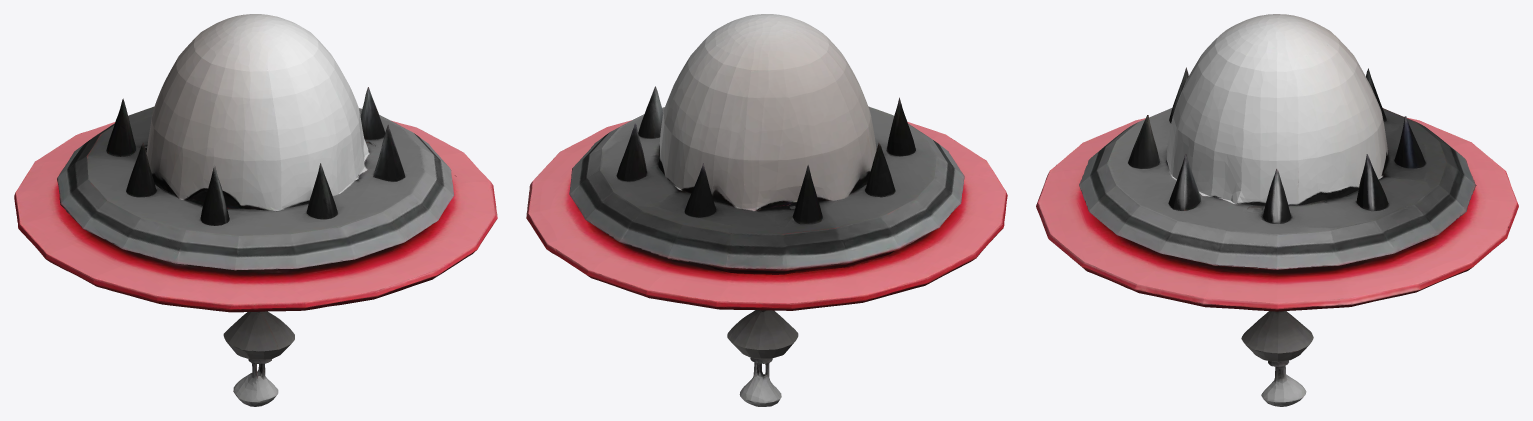
The model's file is 3deditformer_t02.glb.
The picture shows the model from 3 angles, left to right: view 1: azimuth 30°, elevation 25°; view 2: azimuth 150°, elevation 25°; view 3: azimuth 270°, elevation 25°; orthographic projection.
Visible parts, largest first — view 1: geometry_0; view 2: geometry_0; view 3: geometry_0.
Boxes of the visible parts, x1=… form: geometry_0: x1=14, y1=14, x2=497, y2=406; geometry_0: x1=526, y1=14, x2=1007, y2=406; geometry_0: x1=1036, y1=14, x2=1518, y2=406.
Size of the model in its own units: 2 by 1.74 by 2.
1 material, 1 textured.
